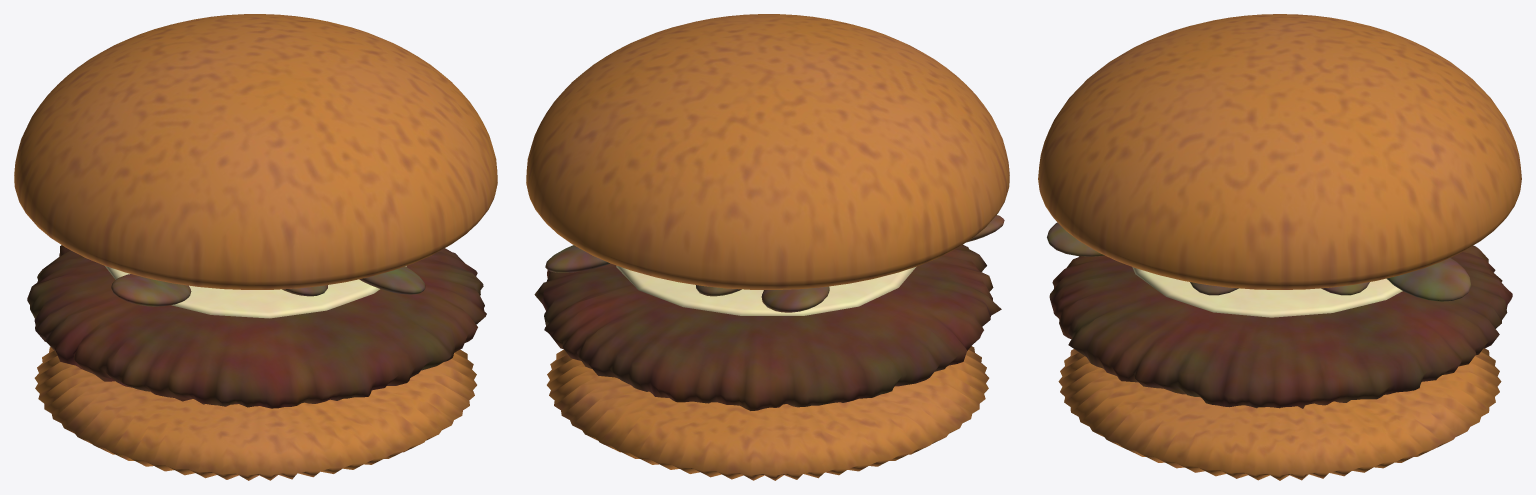
File: truffle-mushroom-cheese-burger-high.glb
3 renders of one model, left to right at view 1: azimuth 30°, elevation 25°; view 2: azimuth 150°, elevation 25°; view 3: azimuth 270°, elevation 25°, orthographic.
Visible parts, largest first — view 1: Mesh_Truffle_Brioche_Buns, Mesh_Seared_Gourmet_Patty, Mesh_Swiss_Gruyere_Cheese_Blanket, Mesh_Sauteed_Wild_Mushrooms_And_Aioli; view 2: Mesh_Truffle_Brioche_Buns, Mesh_Seared_Gourmet_Patty, Mesh_Swiss_Gruyere_Cheese_Blanket, Mesh_Sauteed_Wild_Mushrooms_And_Aioli; view 3: Mesh_Truffle_Brioche_Buns, Mesh_Seared_Gourmet_Patty, Mesh_Swiss_Gruyere_Cheese_Blanket, Mesh_Sauteed_Wild_Mushrooms_And_Aioli.
Boxes of the visible parts, x1,y1,x2,y2 form: Mesh_Truffle_Brioche_Buns: (14, 14, 497, 480); Mesh_Seared_Gourmet_Patty: (27, 245, 486, 408); Mesh_Swiss_Gruyere_Cheese_Blanket: (105, 266, 406, 318); Mesh_Sauteed_Wild_Mushrooms_And_Aioli: (111, 266, 425, 306); Mesh_Truffle_Brioche_Buns: (526, 14, 1009, 480); Mesh_Seared_Gourmet_Patty: (534, 245, 1001, 410); Mesh_Swiss_Gruyere_Cheese_Blanket: (616, 265, 916, 315); Mesh_Sauteed_Wild_Mushrooms_And_Aioli: (545, 215, 1004, 312); Mesh_Truffle_Brioche_Buns: (1038, 14, 1521, 480); Mesh_Seared_Gourmet_Patty: (1049, 245, 1512, 408); Mesh_Swiss_Gruyere_Cheese_Blanket: (1132, 267, 1402, 317); Mesh_Sauteed_Wild_Mushrooms_And_Aioli: (1047, 222, 1471, 301).
Bounding box in the file's own units: 2 × 1.67 × 2.
Materials: 4 (4 with a texture image).
